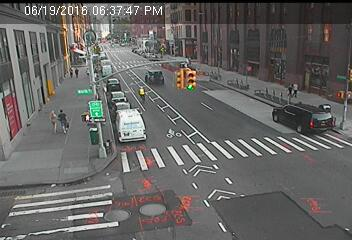neg: (134, 81, 152, 105), (208, 63, 225, 85), (239, 61, 254, 80)
pos: (54, 106, 71, 128), (43, 107, 58, 126), (65, 66, 75, 79), (286, 80, 295, 93), (290, 79, 299, 90), (73, 67, 81, 78)
